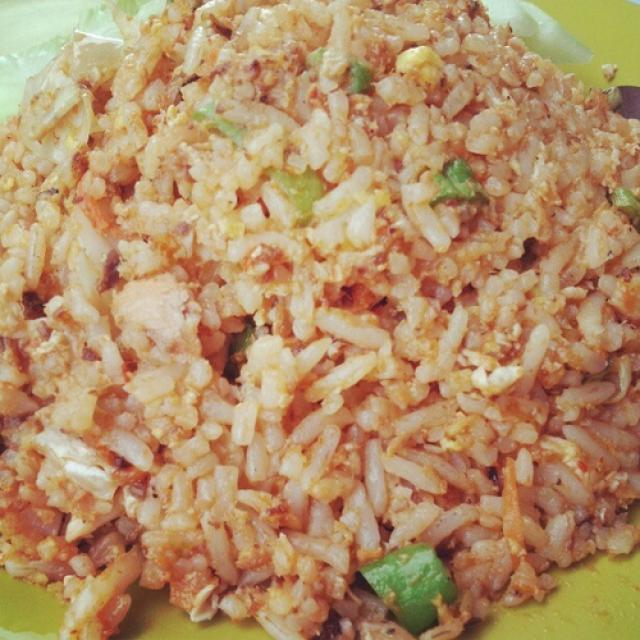米饭主食: (9, 7, 627, 634)
